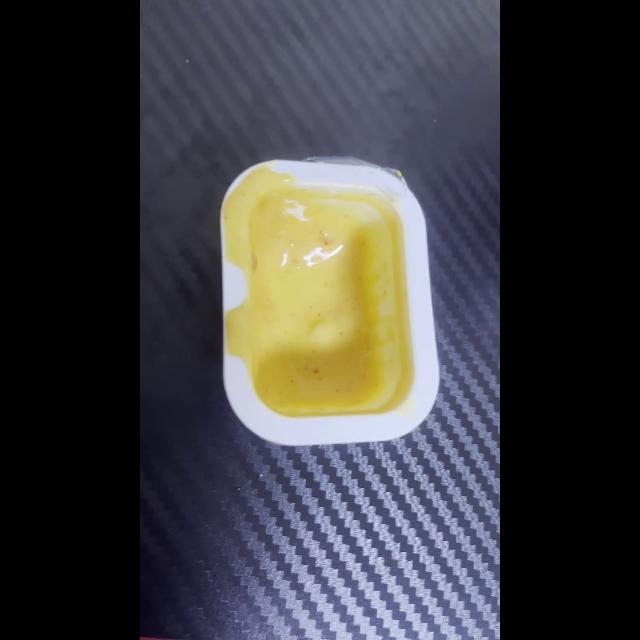dirty: (218, 160, 438, 444)
